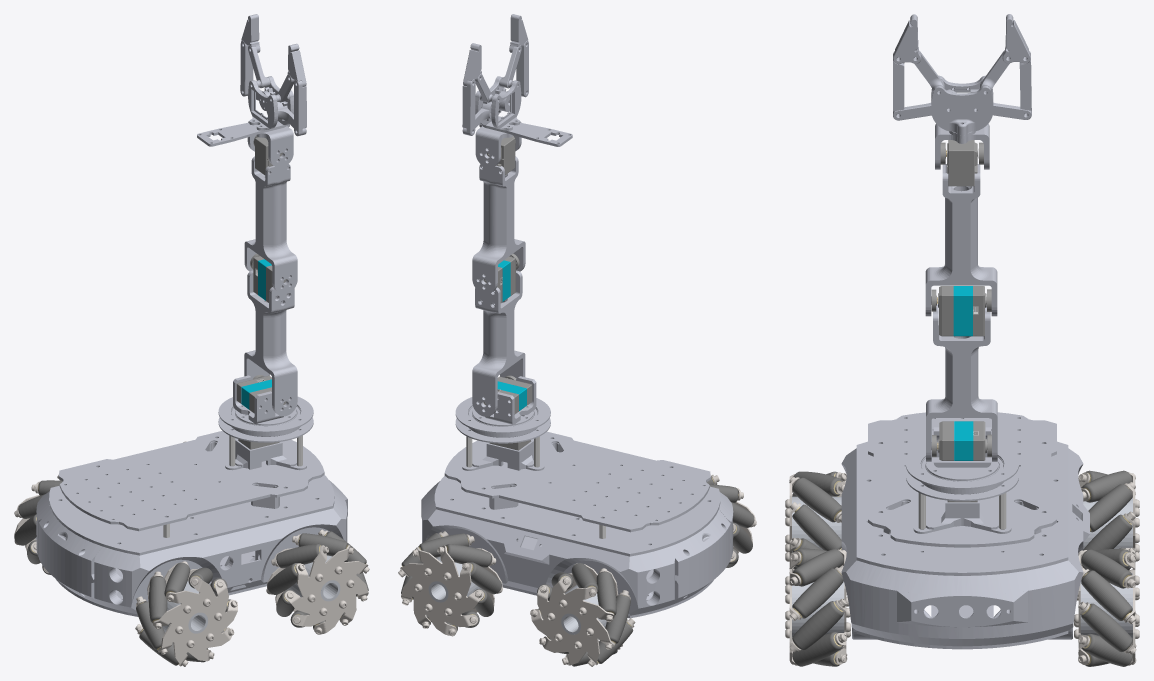
Rendered from MM_Minimal_assembly.3dxml.glb.
The picture shows the model from 3 angles, left to right: view 1: azimuth 30°, elevation 25°; view 2: azimuth 150°, elevation 25°; view 3: azimuth 270°, elevation 25°; orthographic projection. The views are drawn at different scales.
Parts seen in each view (by area): view 1: Plate v01__3; view 2: Plate v01__3; view 3: Plate v01__3.
Boxes of the visible parts, bbox=[...] form: Plate v01__3: bbox=[14, 14, 369, 666]; Plate v01__3: bbox=[398, 14, 756, 666]; Plate v01__3: bbox=[785, 14, 1139, 666].
Size of the model in its own units: 0.3265 by 0.6373 by 0.313.
